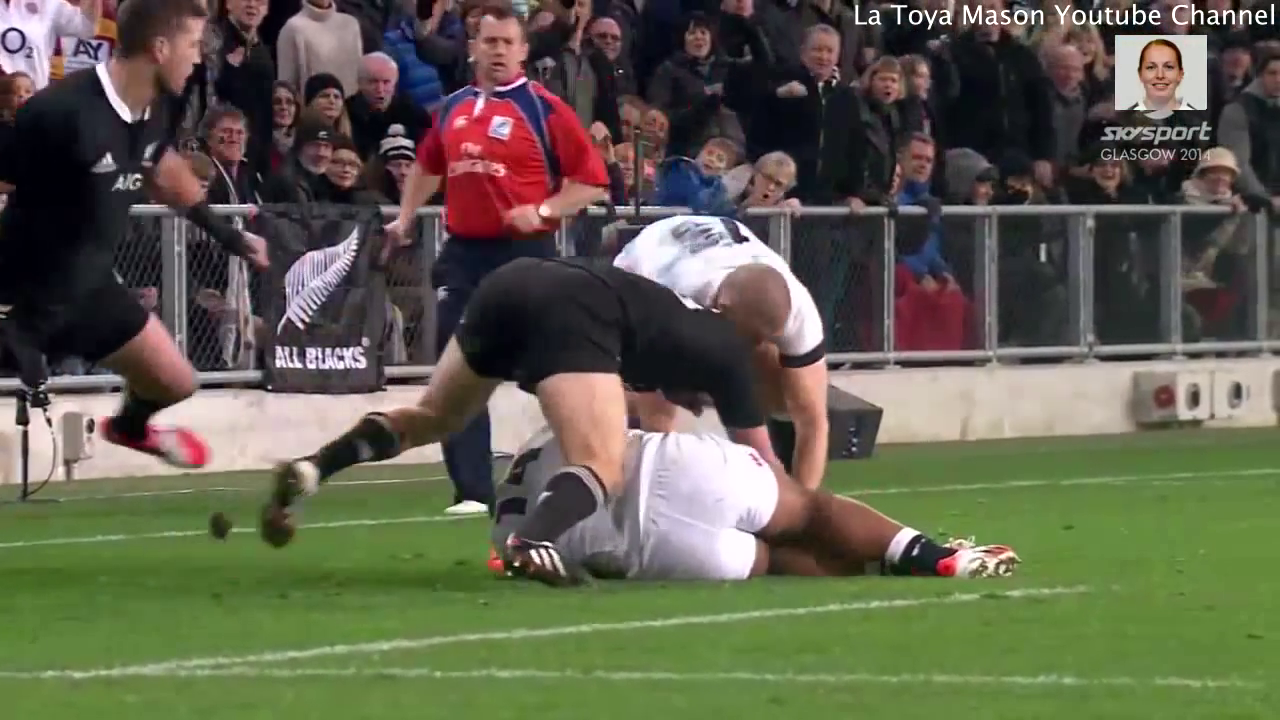player: (244, 256, 695, 562), (1, 1, 251, 477), (492, 421, 1025, 579), (372, 1, 617, 300), (614, 202, 830, 376)
ruck: (273, 212, 1016, 593)
